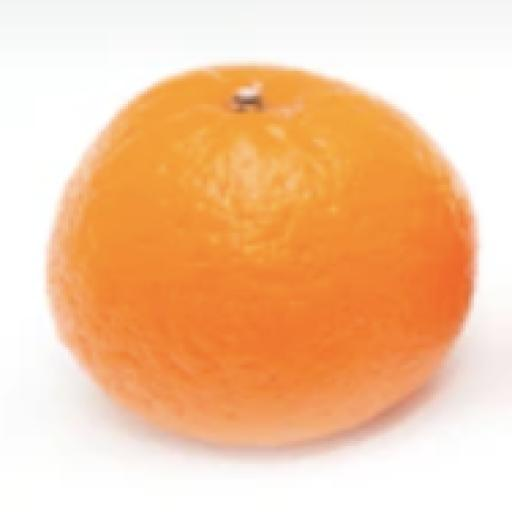orange: (50, 66, 473, 446)
